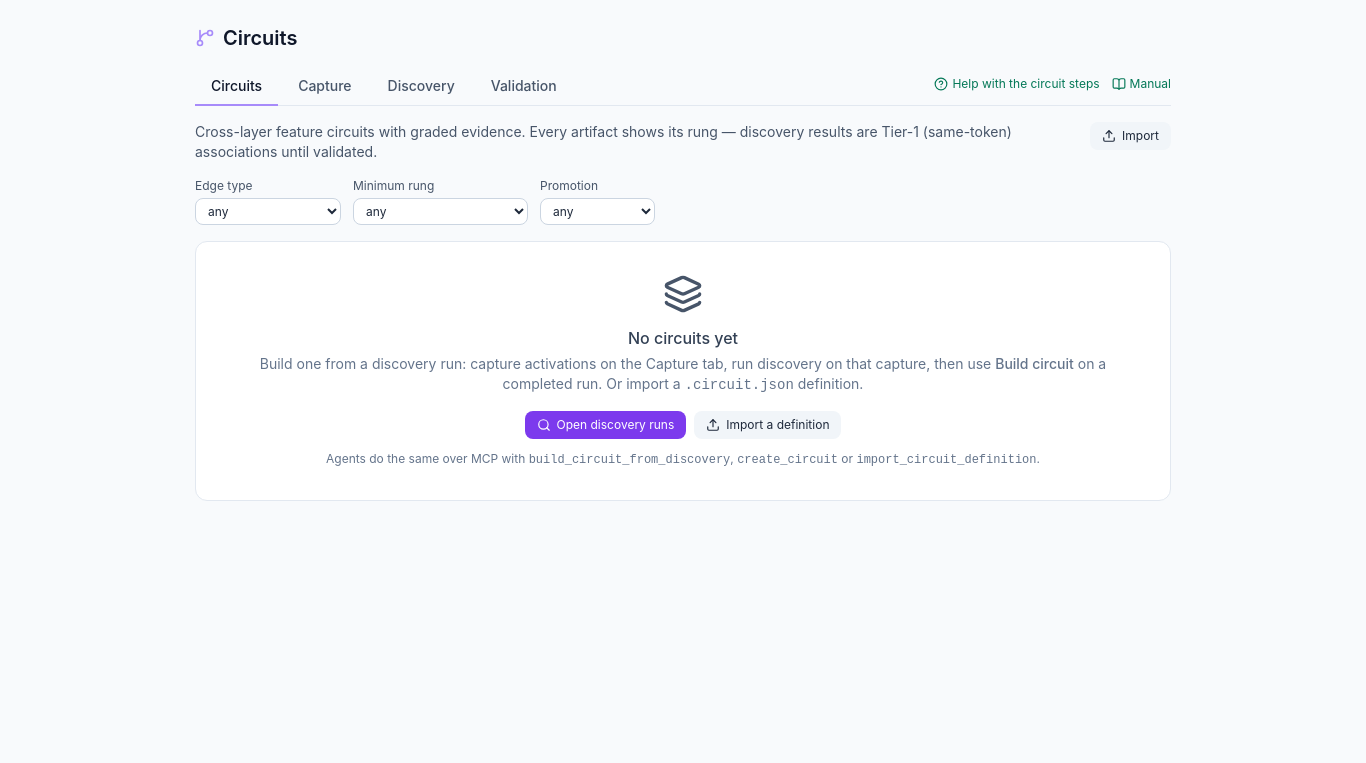
Test: Build circuit from a discovery run › builds from every feature-level candidate by default, once, with the payload
This screenshot has width=1366, height=763.
Click the button "Open discovery runs".
click(605, 425)  # box [524, 411, 686, 439]
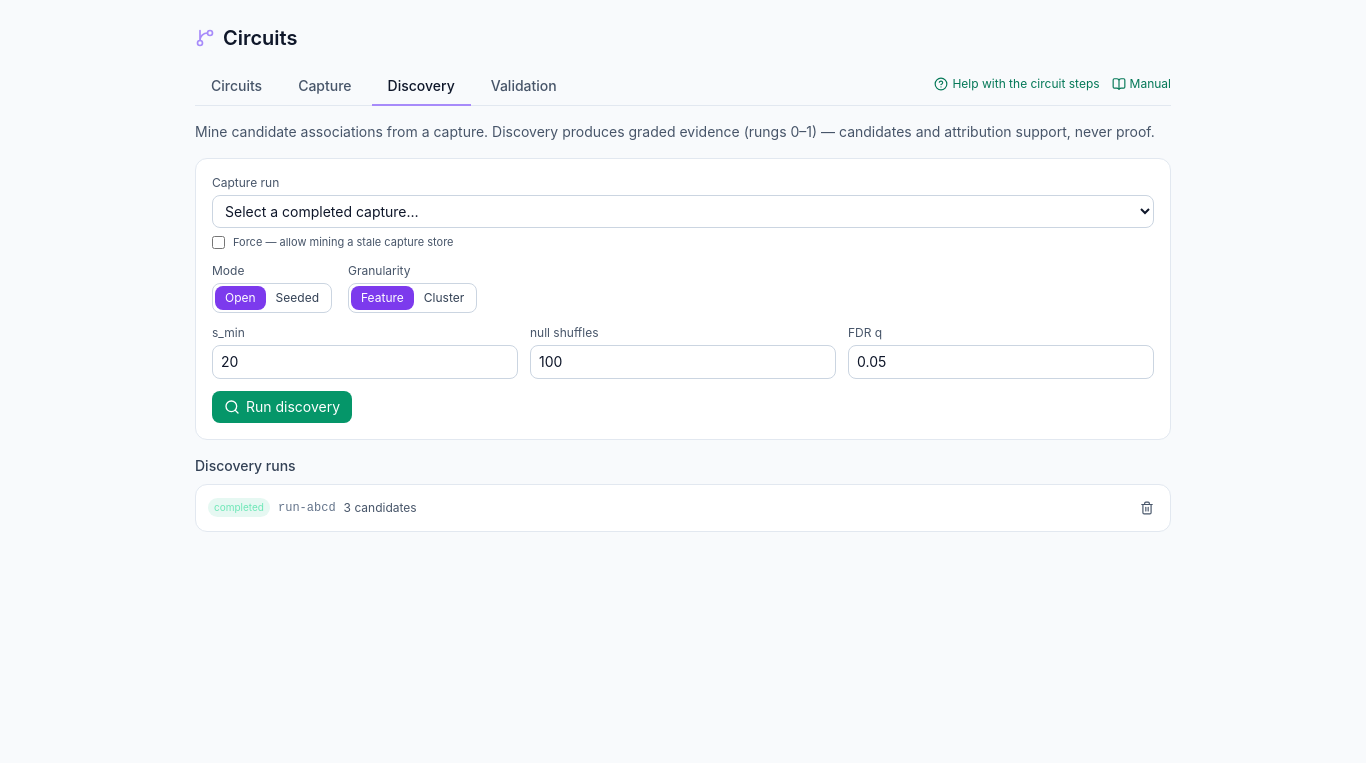
Click the text "run-abcd".
click(307, 508)  # box [278, 500, 336, 516]
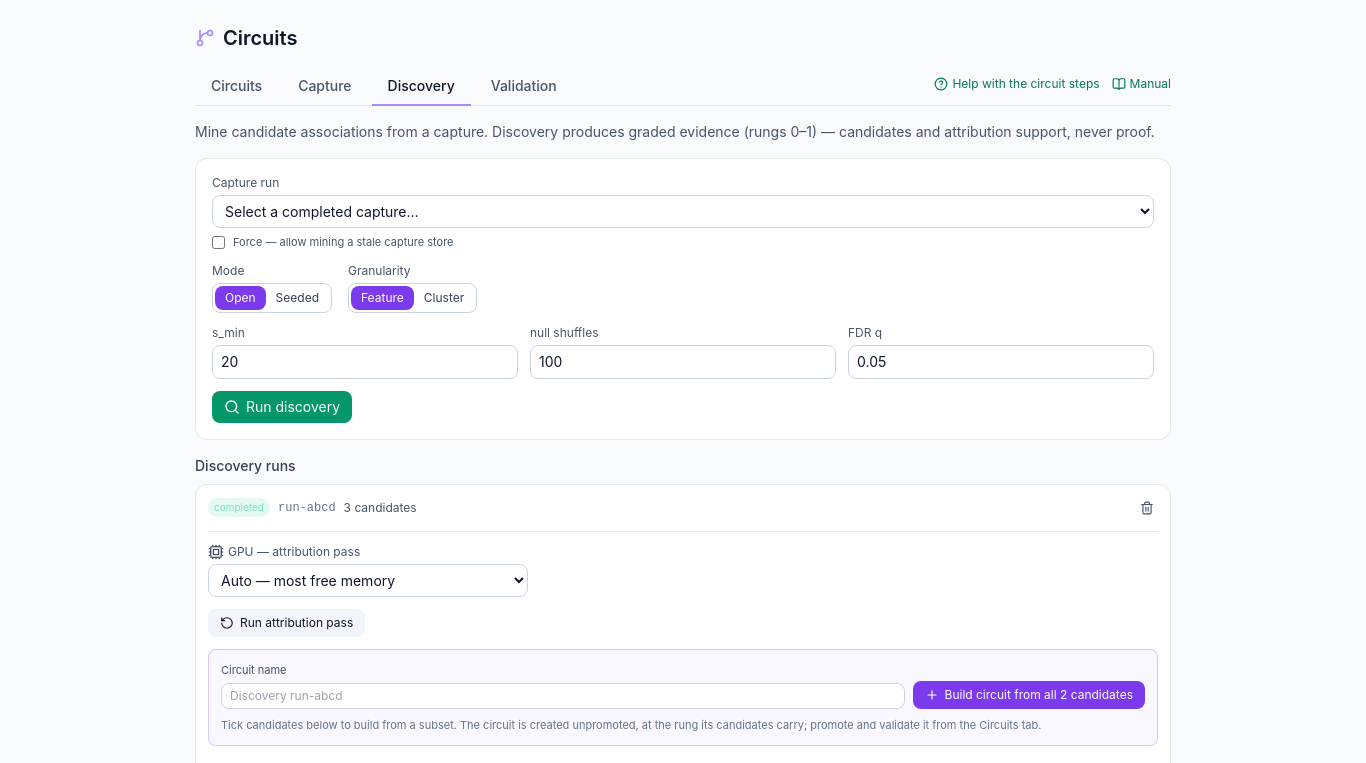
Type "My circuit" into the field labelled "Circuit name".
click(563, 696); type("My circuit")  # box [221, 683, 904, 709]
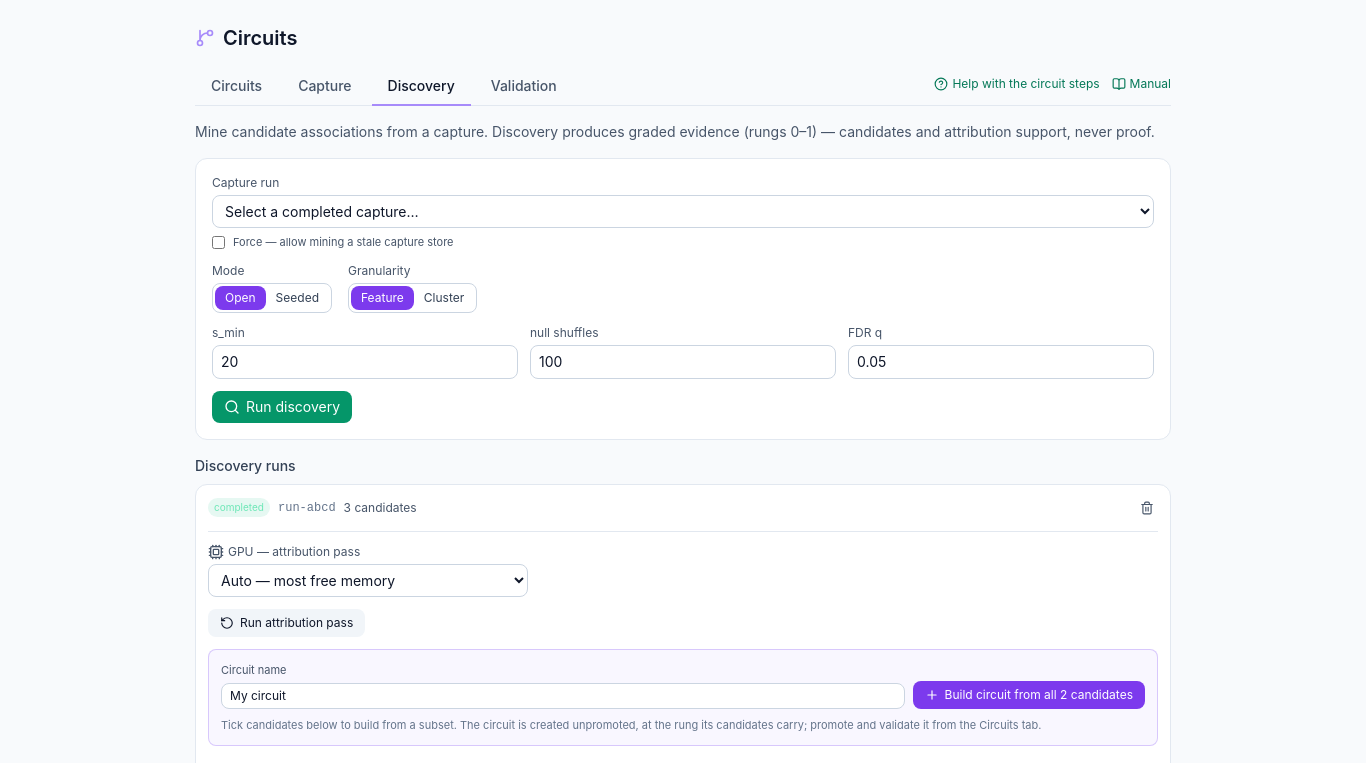
Click the button "Build circuit from all 2 candidates".
click(1029, 695)  # box [912, 681, 1145, 709]
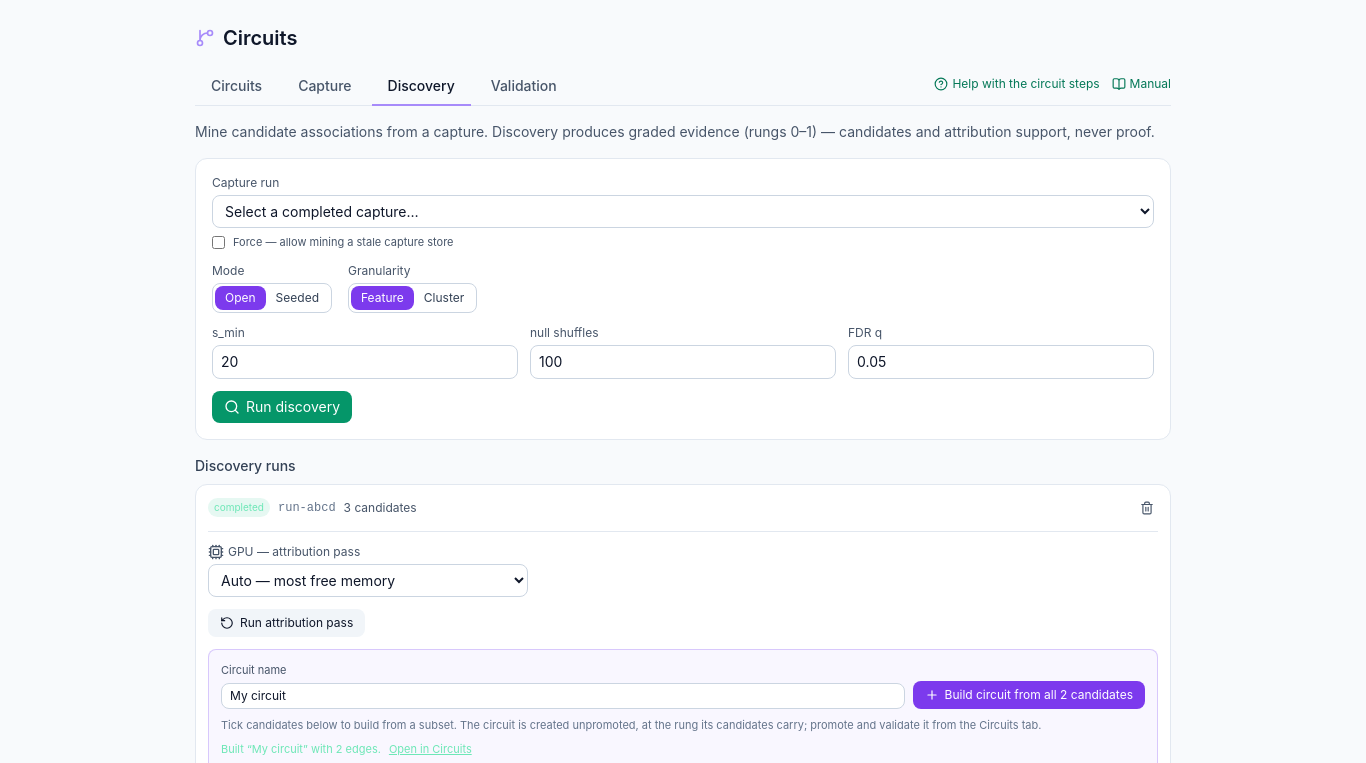
Expected: the message shows "Built “My circuit” with 2 edges.", [221, 741, 472, 758]
